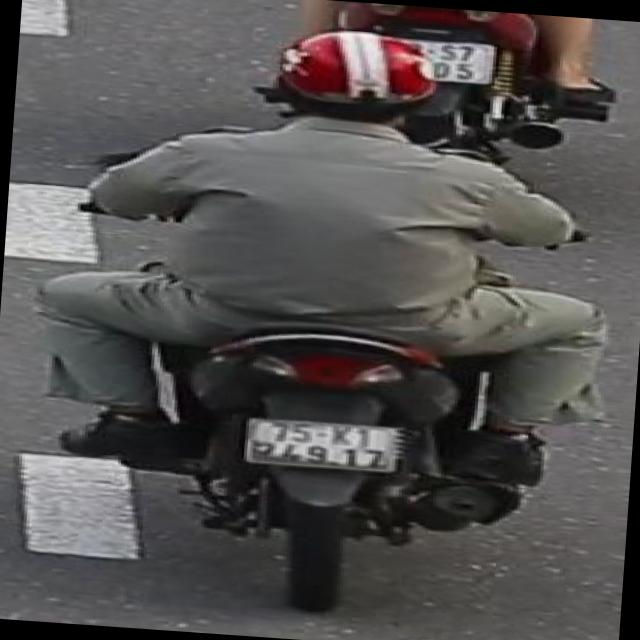LP: (236, 408, 406, 476)
helmet: (238, 23, 452, 120)
